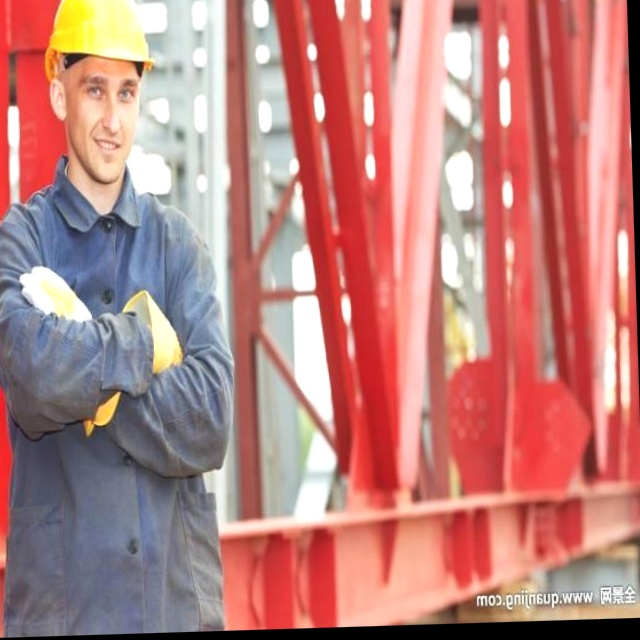Con_Casco: (47, 0, 144, 182)
Sin_Chaleco: (0, 185, 225, 625)
